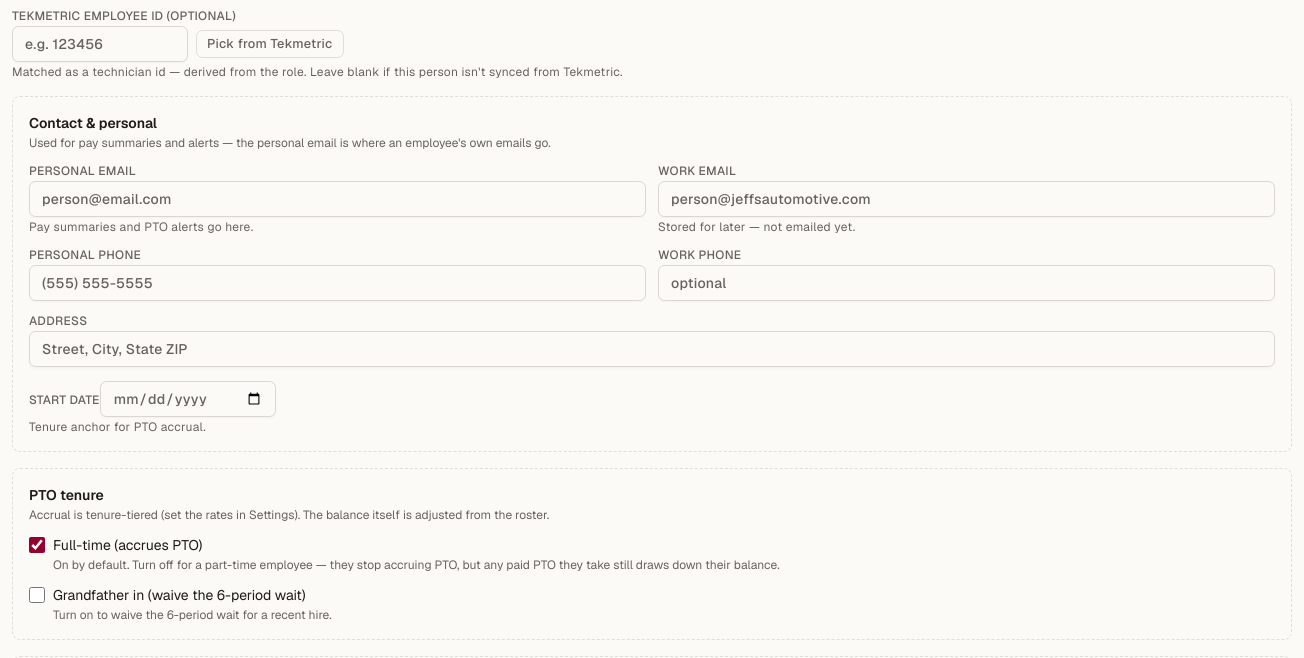
it: EmployeeForm — round-11 changes › reveals the tenure-credit date only when Grandfather is checked
Check: the text "tenure-credit date" is not shown
Step 1. Click the checkbox labelled "Grandfather in" → (37, 595), box [29,587,45,603]
(page scrolled)
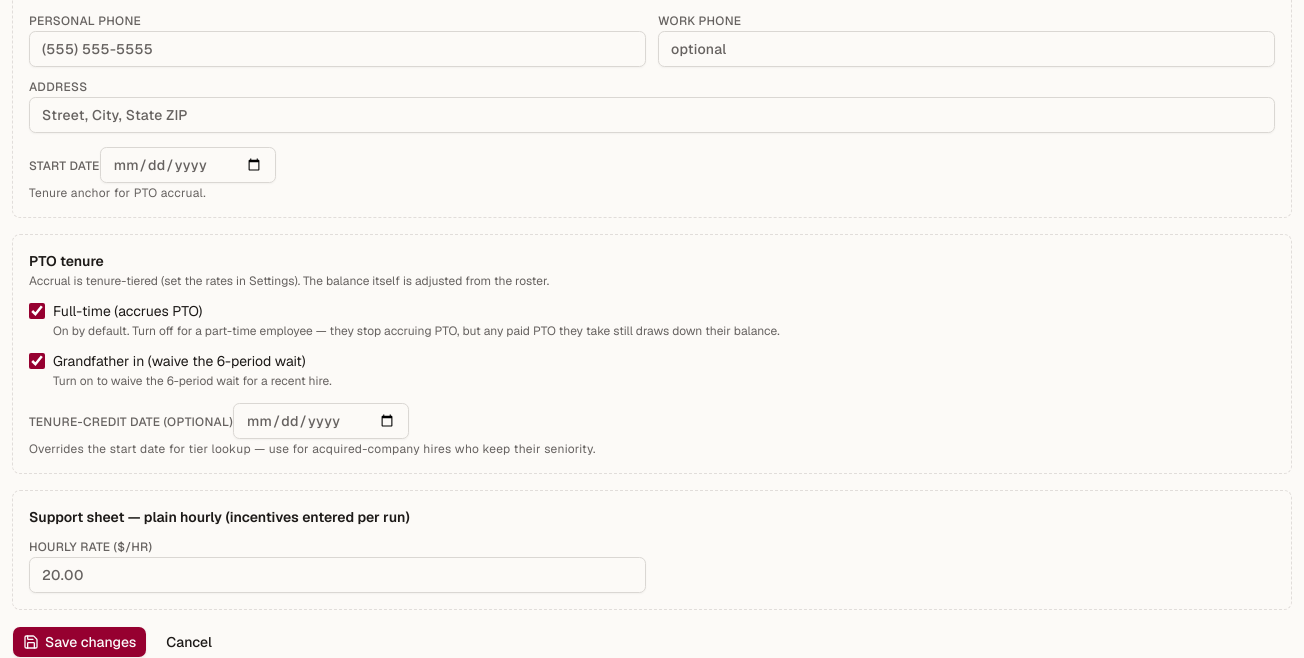
Check: the text "Tenure-credit date" is shown, box [29,414,233,430]
